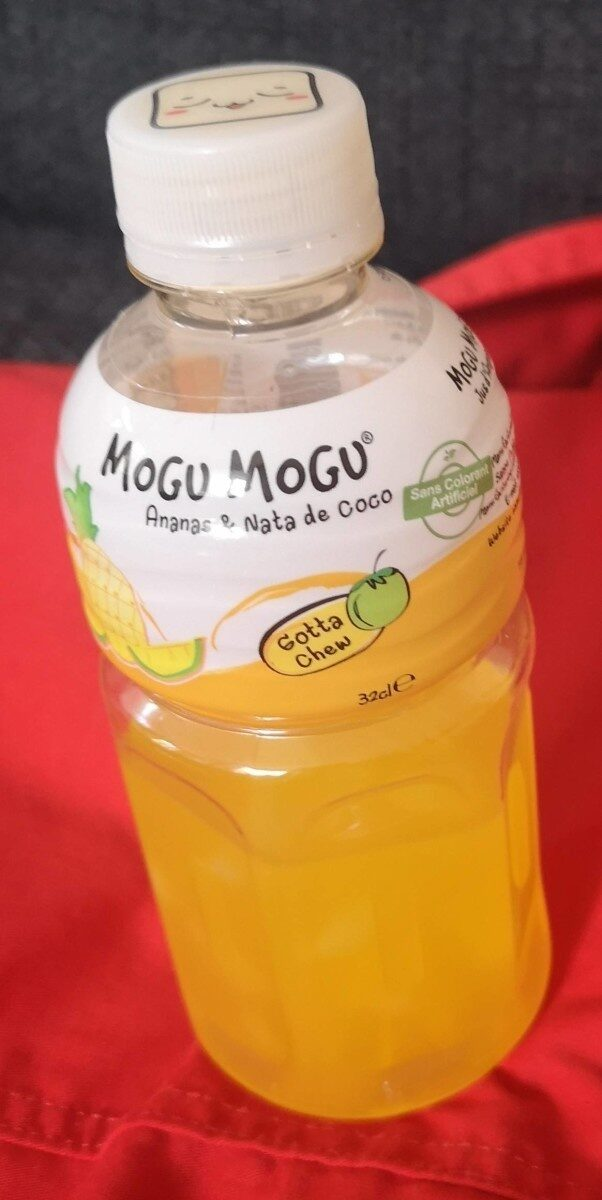Ananas et nata de coco: (30, 60, 572, 1140)
